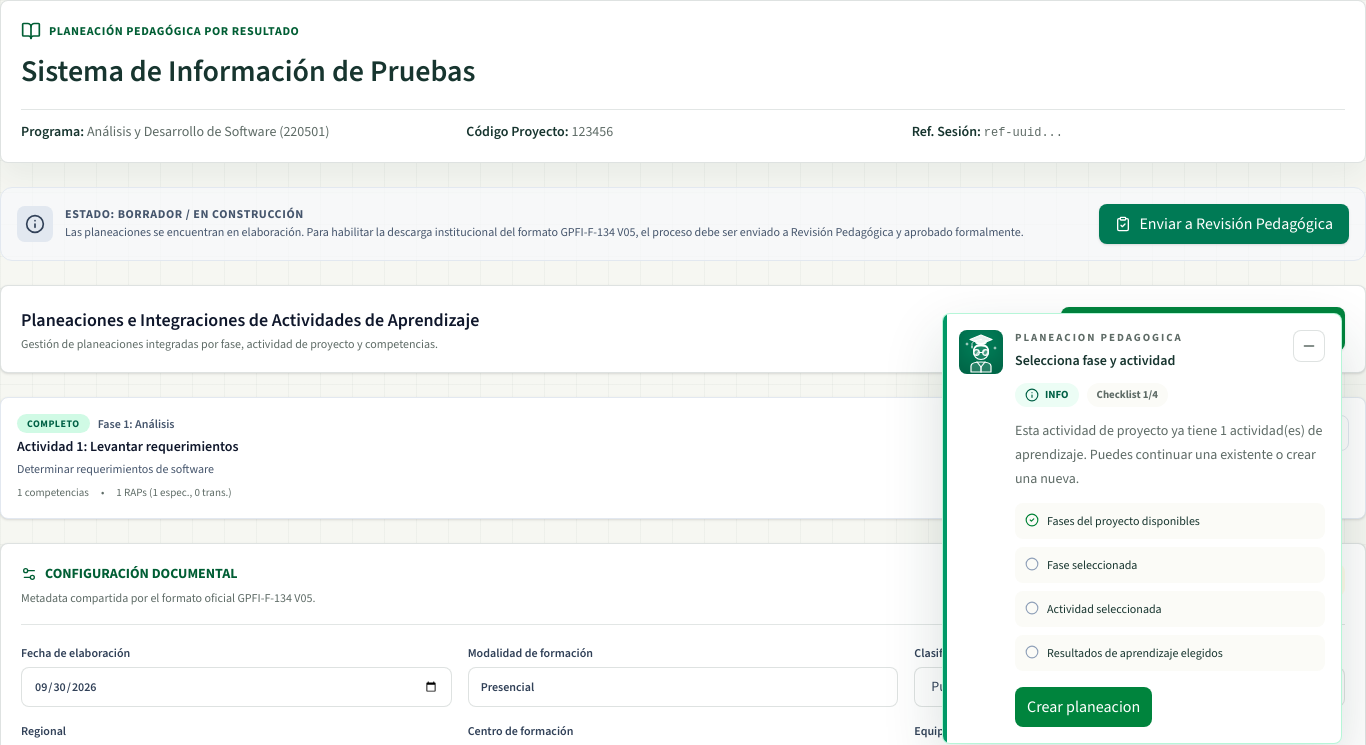
Test: Official Format Sync & Assisted Review Submission Flow › 3. detects OUTDATED status after editing planning/RAP, shows 'Actualizar formato oficial', and runs assisted sync on submit
What coordinates should you click on to do the following:
click the button "Enviar a Revisión Pedagógica"
I would click on:
 (1224, 224)
Its box is x1=1099 y1=204 x2=1349 y2=244.
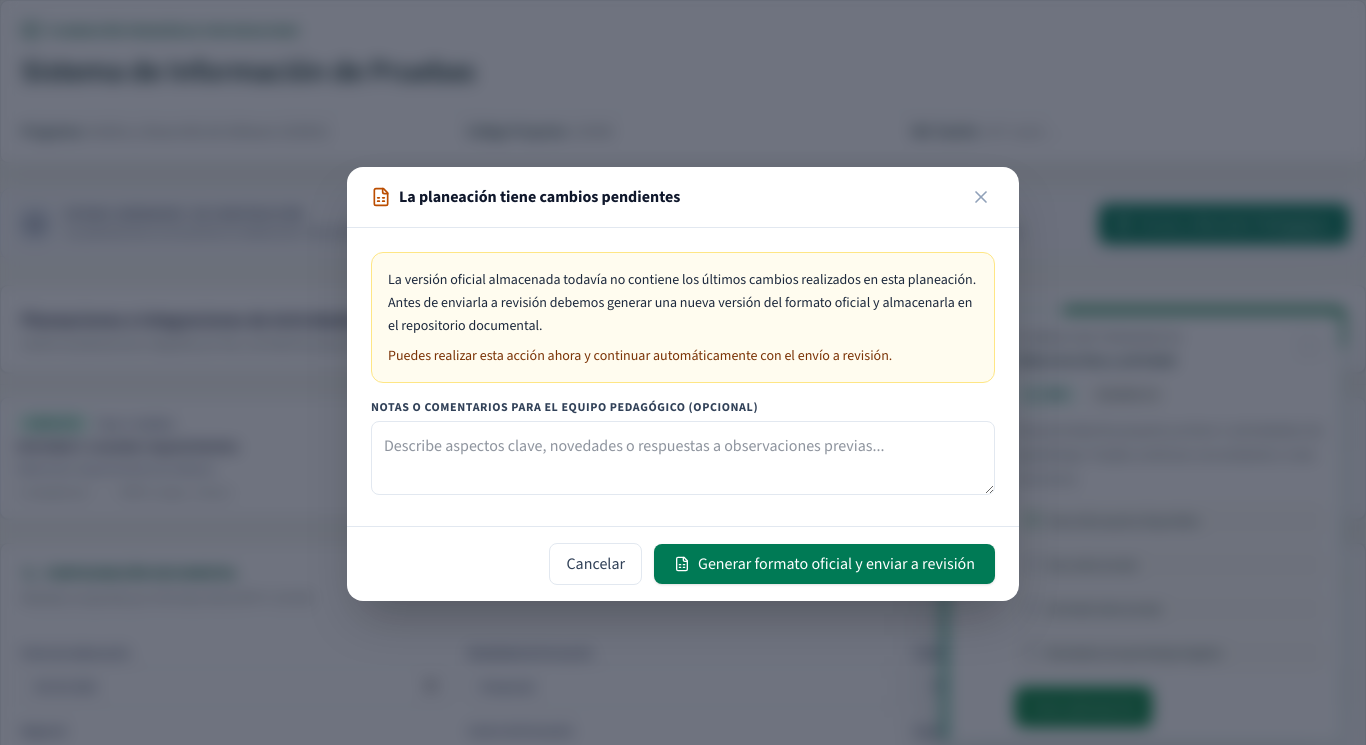
expect the heading "La planeación tiene cambios pendientes" is shown: met, box x1=399 y1=185 x2=680 y2=209
